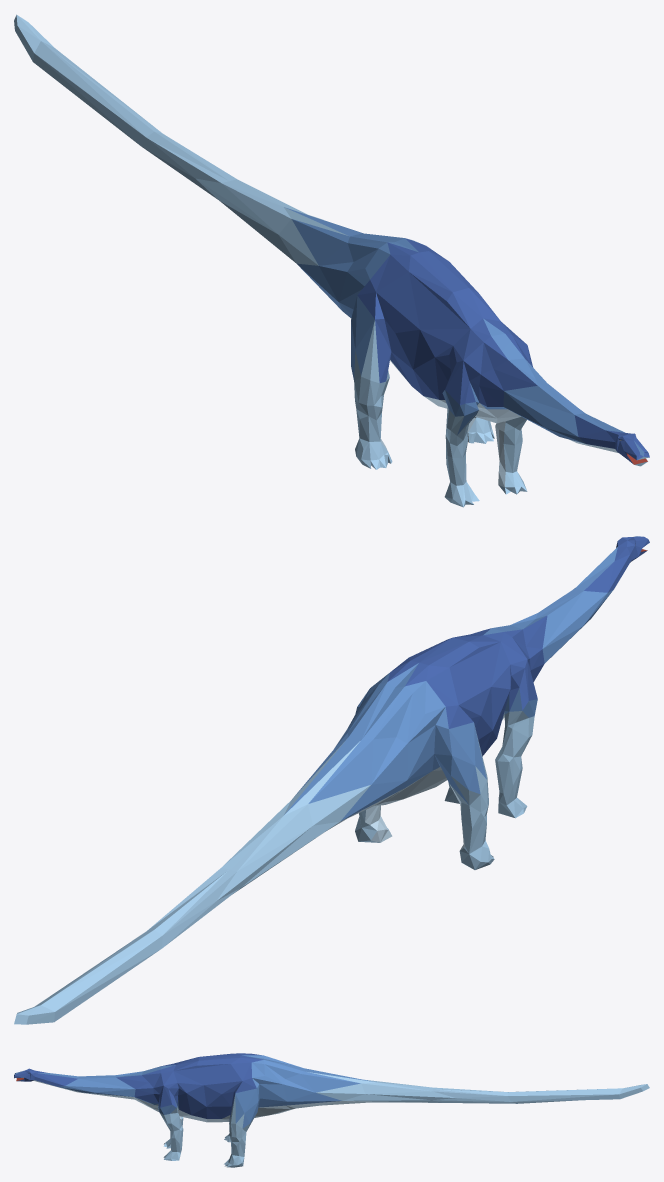
The model's file is RW_LP_DN_Apatosaurus.fbx.
The picture shows the model from 3 angles, top to bottom: view 1: azimuth 30°, elevation 25°; view 2: azimuth 150°, elevation 25°; view 3: azimuth 270°, elevation 25°; orthographic projection. The views are drawn at different scales.
Visible parts, largest first — view 1: RW_LP_DN_Apatosaurus.001; view 2: RW_LP_DN_Apatosaurus.001; view 3: RW_LP_DN_Apatosaurus.001.
Part boxes in pixels (x1,y1,x2,y2): RW_LP_DN_Apatosaurus.001: (14,14,649,507); RW_LP_DN_Apatosaurus.001: (14,536,649,1024); RW_LP_DN_Apatosaurus.001: (14,1053,649,1167).
Bounding box in the file's own units: 3.09 × 4.28 × 25.5.
